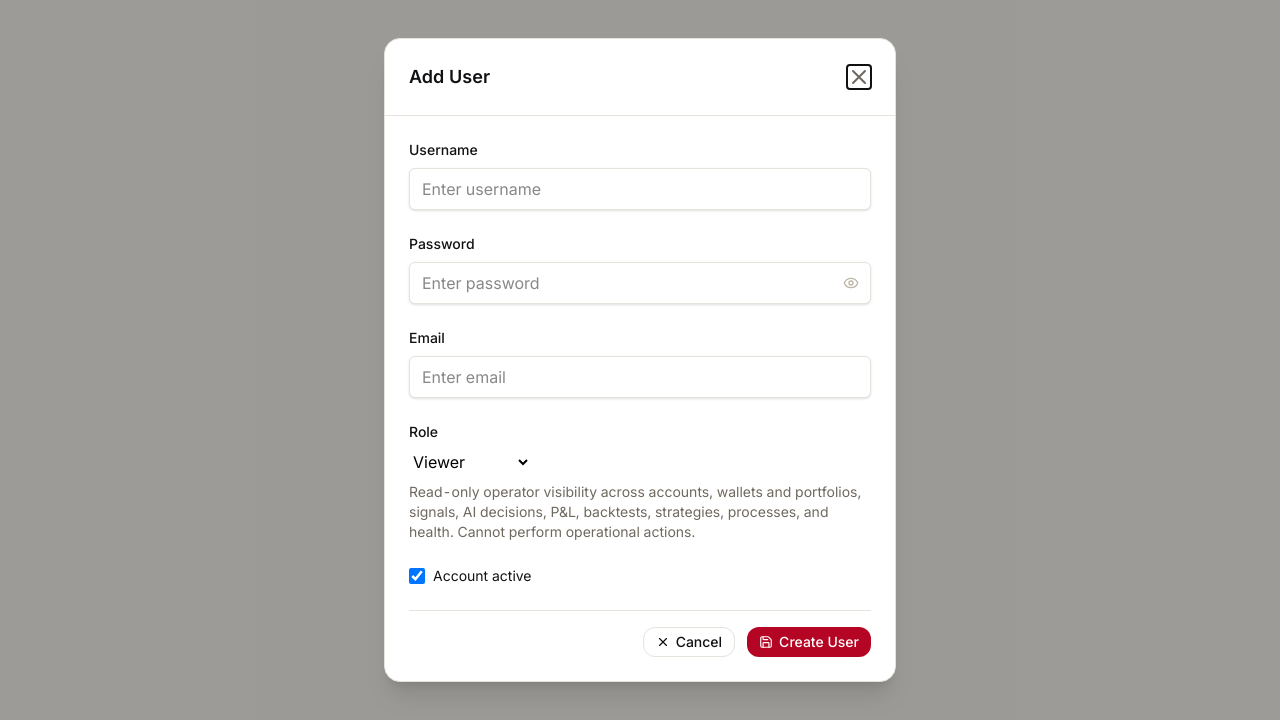
Test: UserForm › validates required fields on submit
The width and height of the screenshot is (1280, 720).
Click the button "Create User": (809, 642) [747, 627, 871, 657]
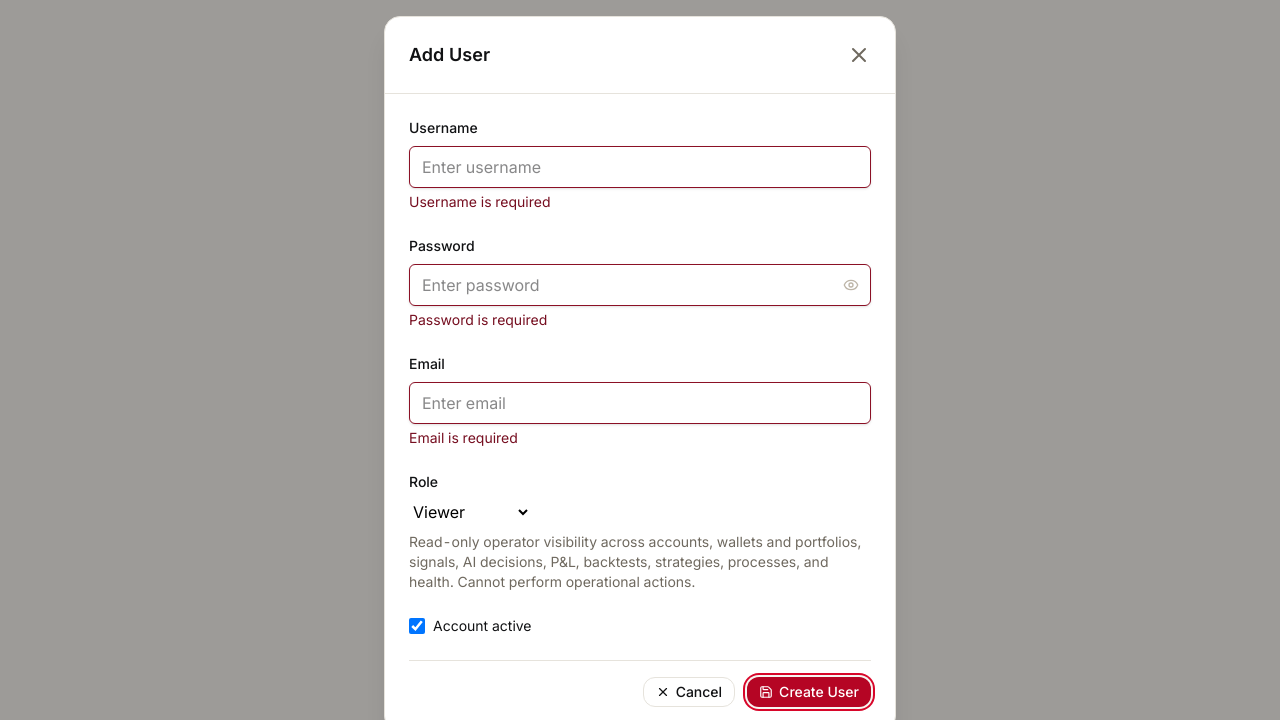
Now the text "Username is required" is shown, box [409, 193, 550, 210]
Now the text "Email is required" is shown, box [409, 429, 518, 446]
Now the text "Password is required" is shown, box [409, 311, 547, 328]
